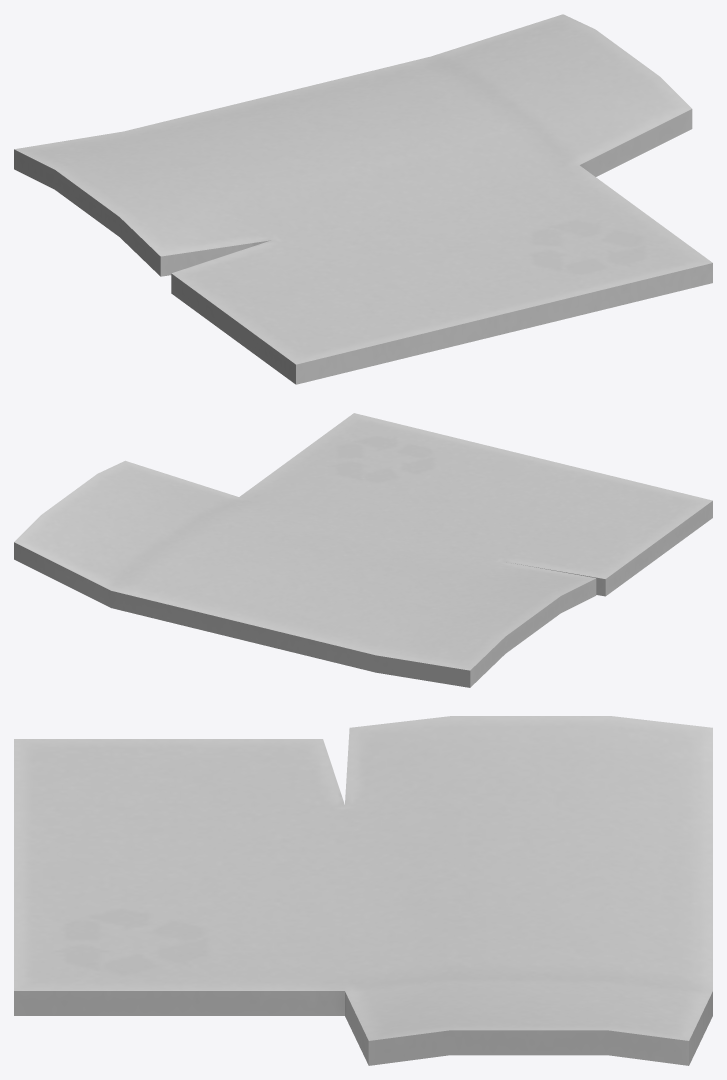
The model's file is SM_PaperBox__2.fbx.
The picture shows the model from 3 angles, top to bottom: view 1: azimuth 30°, elevation 25°; view 2: azimuth 150°, elevation 25°; view 3: azimuth 270°, elevation 25°; orthographic projection. The views are drawn at different scales.
Visible parts, largest first — view 1: Mat_PaperBox_White; view 2: Mat_PaperBox_White; view 3: Mat_PaperBox_White.
Part boxes in pixels (x1,y1,x2,y2): Mat_PaperBox_White: [14, 14, 712, 384]; Mat_PaperBox_White: [14, 413, 712, 687]; Mat_PaperBox_White: [14, 716, 712, 1065].
Bounding box in the file's own units: 1.24 × 0.1052 × 1.12.
1 material, 1 textured.
